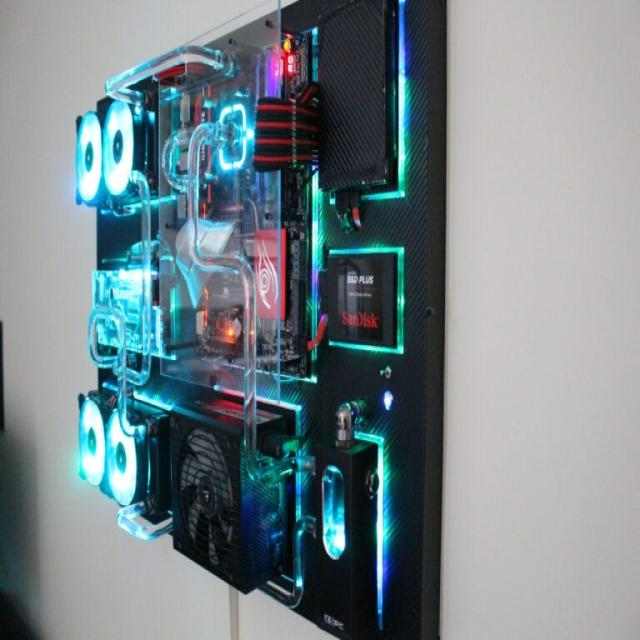electronics: (80, 0, 443, 639), (158, 20, 318, 390), (158, 20, 285, 392), (171, 400, 285, 591), (265, 24, 322, 379), (317, 0, 404, 231), (268, 28, 320, 379), (88, 169, 160, 404), (316, 399, 383, 635), (318, 0, 396, 188), (316, 440, 378, 635), (78, 391, 168, 512), (243, 220, 308, 375), (76, 96, 156, 212), (252, 31, 319, 169), (172, 428, 237, 564), (108, 402, 171, 539), (174, 430, 236, 564), (88, 304, 150, 435), (92, 240, 160, 352), (328, 248, 402, 350), (176, 264, 243, 368), (98, 99, 157, 211), (280, 211, 320, 376), (89, 302, 150, 404), (88, 304, 135, 432), (103, 99, 156, 209), (252, 84, 319, 168), (244, 228, 288, 355), (175, 219, 234, 308), (260, 515, 316, 608), (185, 268, 243, 355), (105, 411, 148, 504), (92, 268, 140, 348), (278, 24, 318, 104), (79, 392, 112, 484), (92, 268, 140, 331), (144, 412, 171, 511), (317, 464, 345, 559), (104, 100, 132, 195), (117, 492, 172, 540), (254, 230, 285, 315), (196, 304, 243, 360), (77, 111, 100, 202), (216, 104, 248, 168), (161, 128, 192, 191), (335, 188, 360, 231), (76, 140, 96, 175), (258, 411, 284, 435), (80, 421, 99, 452), (96, 322, 116, 344), (0, 320, 3, 430), (259, 375, 278, 392), (283, 48, 296, 71), (99, 326, 115, 344), (121, 412, 132, 431), (263, 375, 277, 386), (92, 468, 98, 480), (108, 209, 119, 215), (100, 335, 108, 342), (120, 406, 124, 420), (254, 152, 258, 164), (177, 536, 181, 548), (291, 175, 299, 180), (262, 115, 270, 120), (254, 155, 258, 164), (123, 424, 128, 430), (312, 133, 316, 139), (236, 524, 238, 535), (143, 295, 148, 299), (88, 115, 92, 120), (312, 122, 316, 127), (236, 552, 238, 560), (236, 492, 238, 500), (262, 390, 268, 392), (313, 128, 316, 132), (137, 335, 139, 340), (87, 455, 89, 460), (312, 151, 314, 155), (256, 148, 259, 150), (82, 136, 84, 139), (178, 262, 180, 264), (257, 148, 259, 150), (180, 51, 181, 55), (183, 270, 185, 271), (88, 467, 89, 468), (257, 110, 258, 111), (84, 472, 85, 472)
